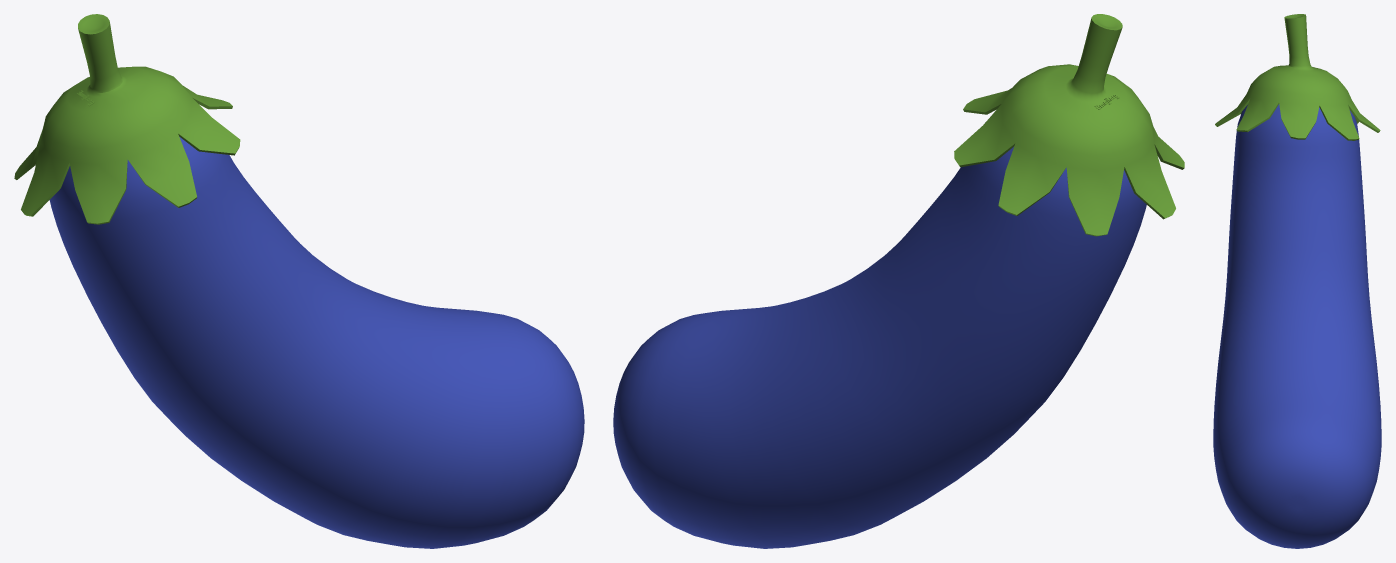
File: eggplant.fbx
3 views of the same model, side by side, from view 1: azimuth 30°, elevation 25°; view 2: azimuth 150°, elevation 25°; view 3: azimuth 270°, elevation 25° (orthographic). The views are drawn at different scales.
Visible parts, largest first — view 1: Circle.043; view 2: Circle.043; view 3: Circle.043.
Boxes of the visible parts, x1,y1,x2,y2 form: Circle.043: [14, 14, 584, 548]; Circle.043: [613, 14, 1184, 548]; Circle.043: [1213, 14, 1381, 548].
Bounding box in the file's own units: 216 × 230 × 86.58.
1 material, 1 textured.
